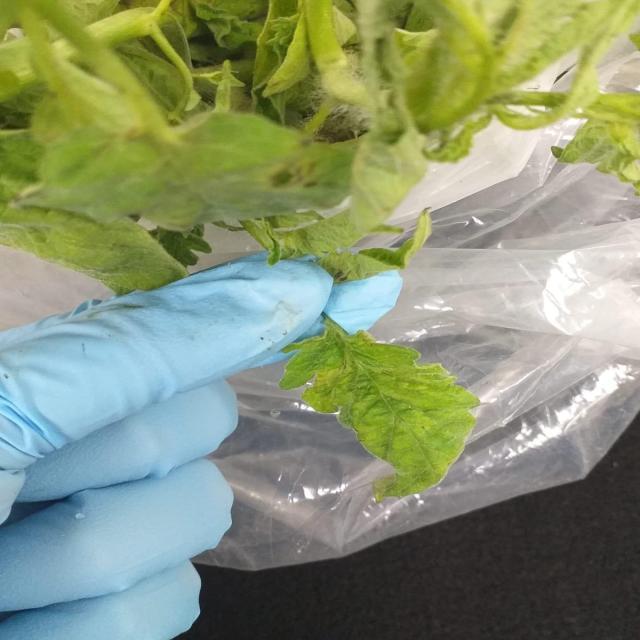T_L_R: (280, 320, 480, 502)
